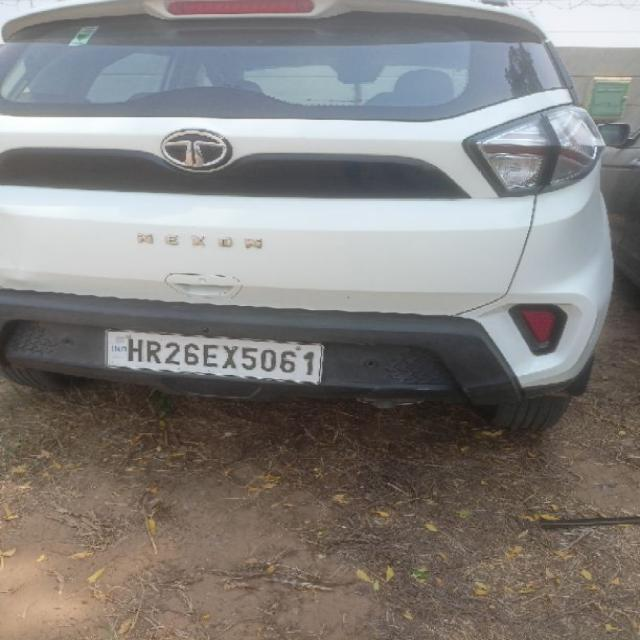license_plate: (103, 328, 324, 385)
